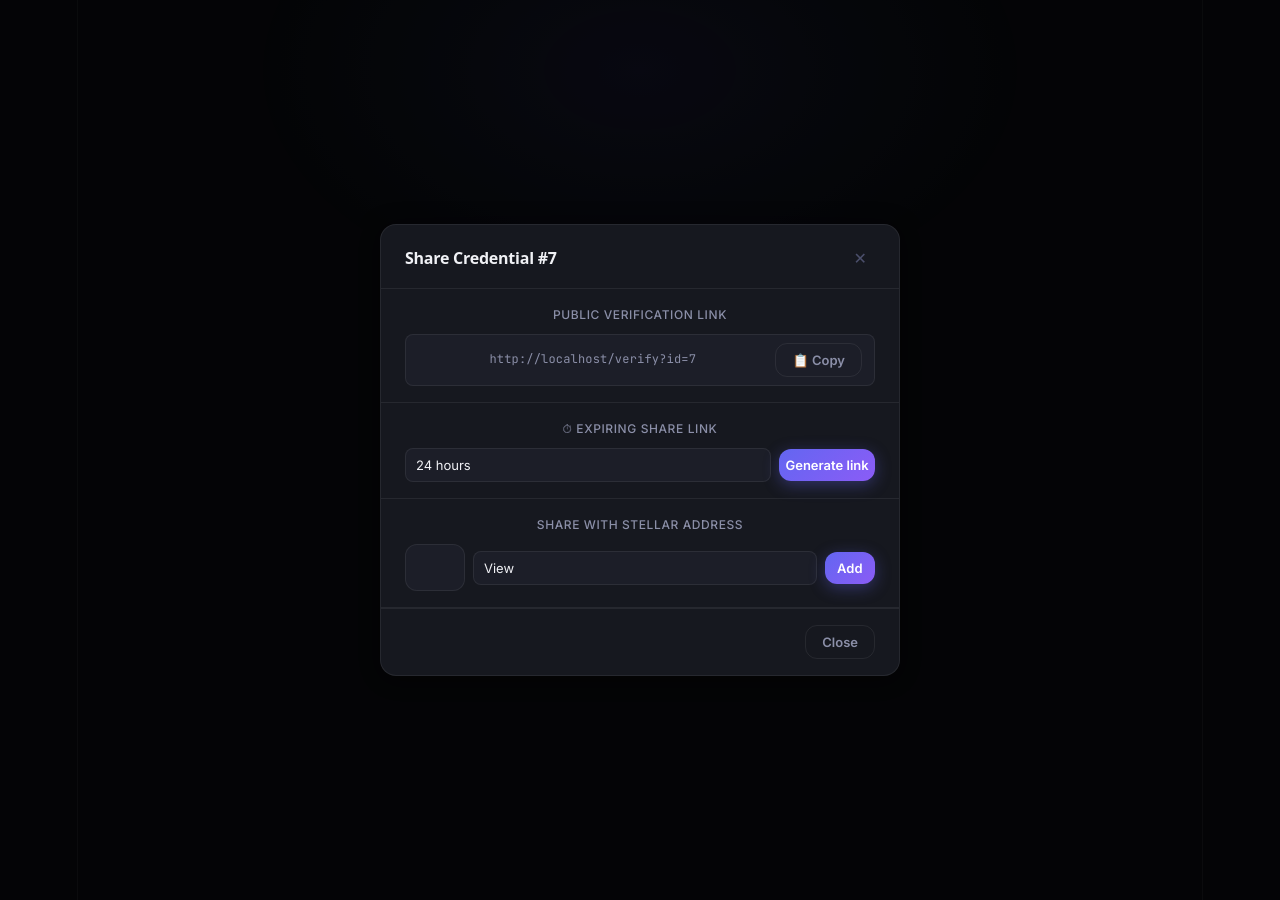
Test: ShareCredentialDialog — expiring link section › shows an error when no wallet is connected
The image size is (1280, 900).
What coordinates should you click on to do the following:
click the button with aria-label "Generate expiring share link"
I would click on:
 (827, 465)
Its box is [779,449,875,481].
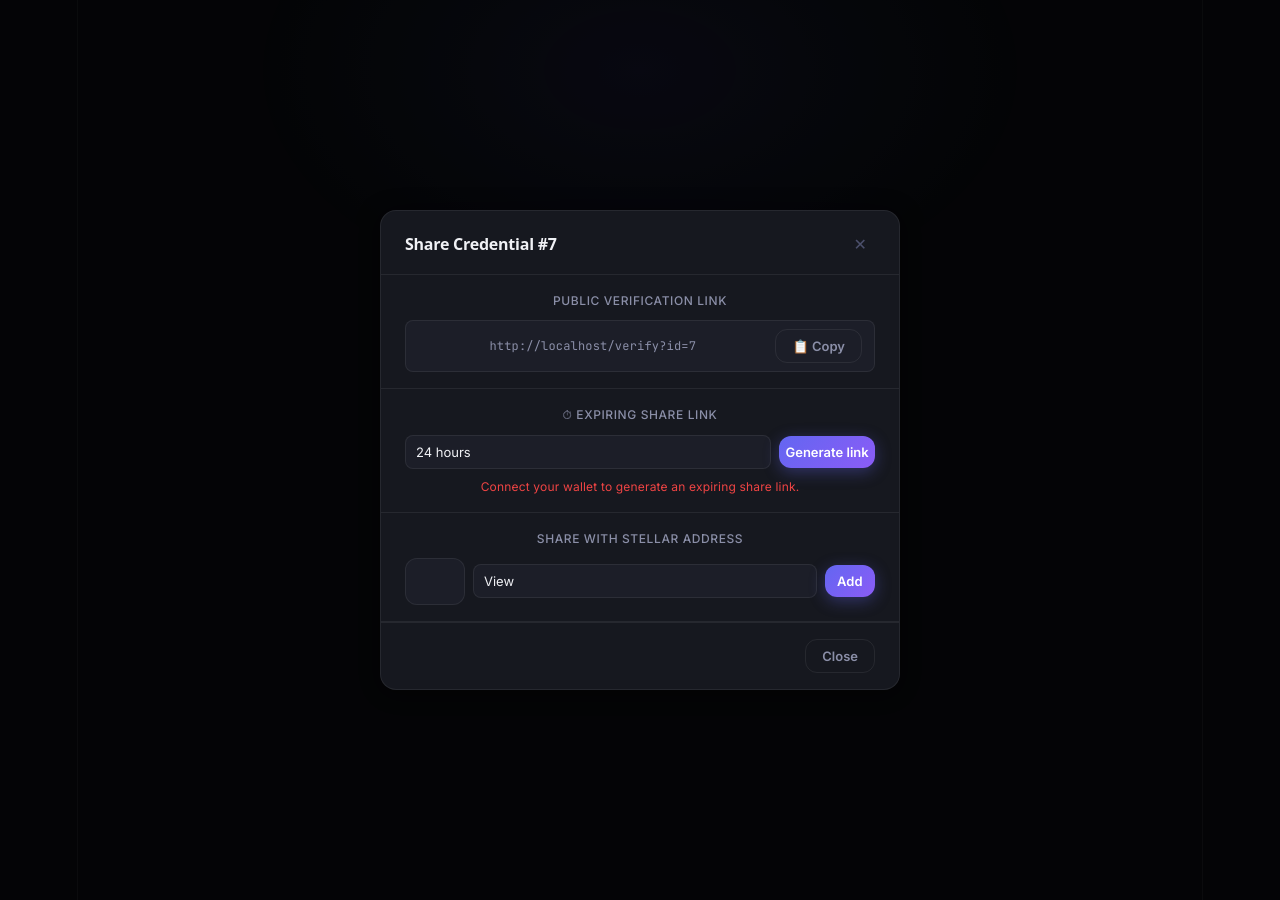
Expected: the message shows "Connect your wallet", [481,478,799,494]
